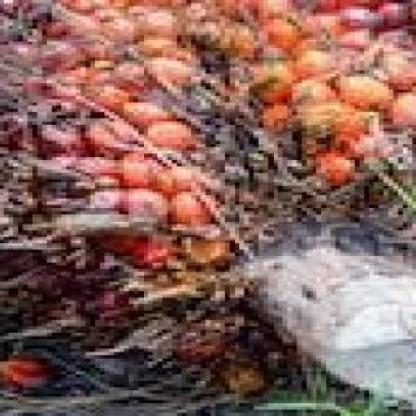Ripe: (0, 0, 416, 410)
